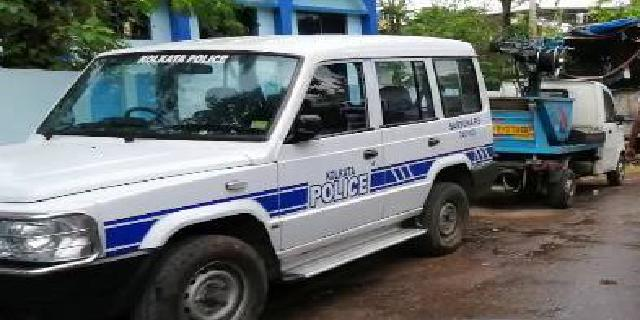Car: (1, 38, 498, 319)
